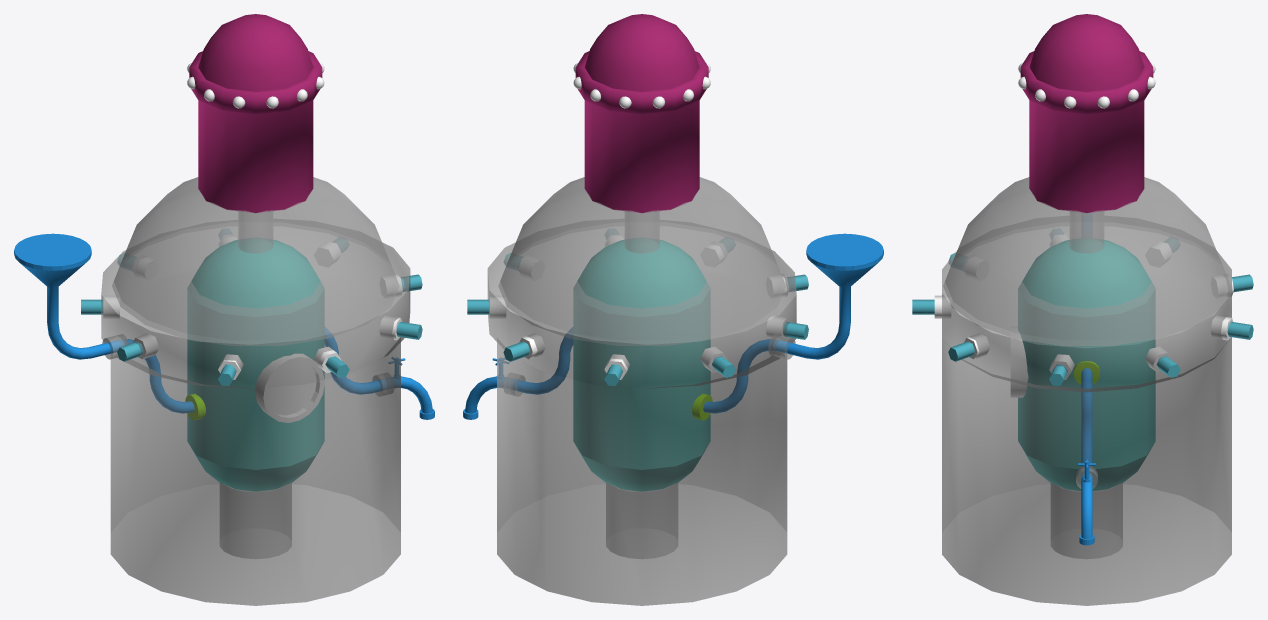
3 renders of one model, left to right at view 1: azimuth 30°, elevation 25°; view 2: azimuth 150°, elevation 25°; view 3: azimuth 270°, elevation 25°, orthographic.
Visible parts, largest first — view 1: Cylinder001, Sphere001, OilTank001, OilTank002, Loft001, Cylinder014, Cylinder011, Loft002, Cylinder021; view 2: Cylinder001, Sphere001, OilTank001, OilTank002, Loft001, Cylinder014, Loft002, Cylinder021; view 3: Cylinder001, Sphere001, OilTank001, OilTank002, Cylinder014, Loft002, Cylinder021, Cylinder011, Cylinder008.
Boxes of the visible parts, left/top/right/bottom form: Cylinder001: left=101, top=219, right=410, bottom=605; Sphere001: left=112, top=177, right=398, bottom=345; OilTank001: left=187, top=238, right=324, bottom=491; OilTank002: left=189, top=14, right=322, bottom=213; Loft001: left=14, top=233, right=194, bottom=413; Cylinder014: left=220, top=483, right=291, bottom=558; Cylinder011: left=254, top=353, right=324, bottom=422; Loft002: left=324, top=327, right=434, bottom=419; Cylinder021: left=238, top=211, right=272, bottom=253; Cylinder001: left=487, top=219, right=796, bottom=605; Sphere001: left=499, top=177, right=785, bottom=345; OilTank001: left=573, top=238, right=710, bottom=491; OilTank002: left=575, top=14, right=708, bottom=213; Loft001: left=703, top=233, right=883, bottom=413; Cylinder014: left=606, top=483, right=677, bottom=558; Loft002: left=463, top=327, right=573, bottom=419; Cylinder021: left=625, top=211, right=659, bottom=253; Cylinder001: left=942, top=216, right=1231, bottom=605; Sphere001: left=943, top=177, right=1230, bottom=345; OilTank001: left=1018, top=238, right=1155, bottom=490; OilTank002: left=1020, top=14, right=1153, bottom=212; Cylinder014: left=1051, top=483, right=1122, bottom=558; Loft002: left=1079, top=368, right=1094, bottom=545; Cylinder021: left=1070, top=211, right=1103, bottom=253; Cylinder011: left=1010, top=327, right=1028, bottom=397; Cylinder008: left=1145, top=241, right=1172, bottom=267.
Size of the model in its own units: 416 by 503 by 297.
